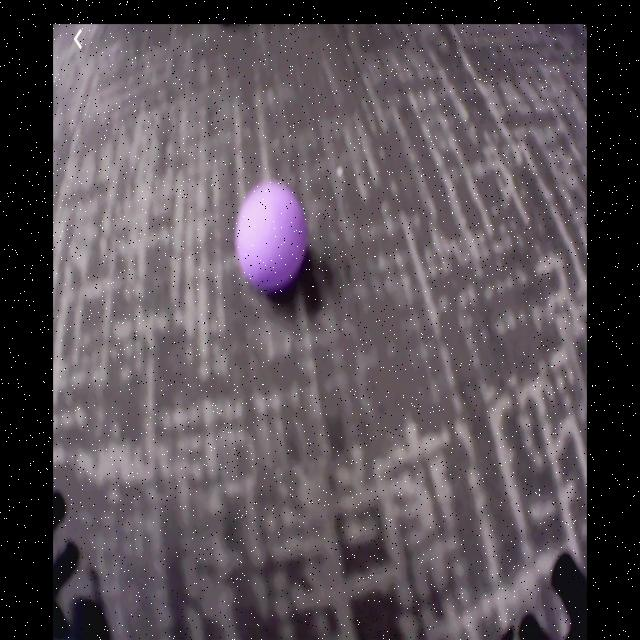ball: (238, 185, 307, 291)
